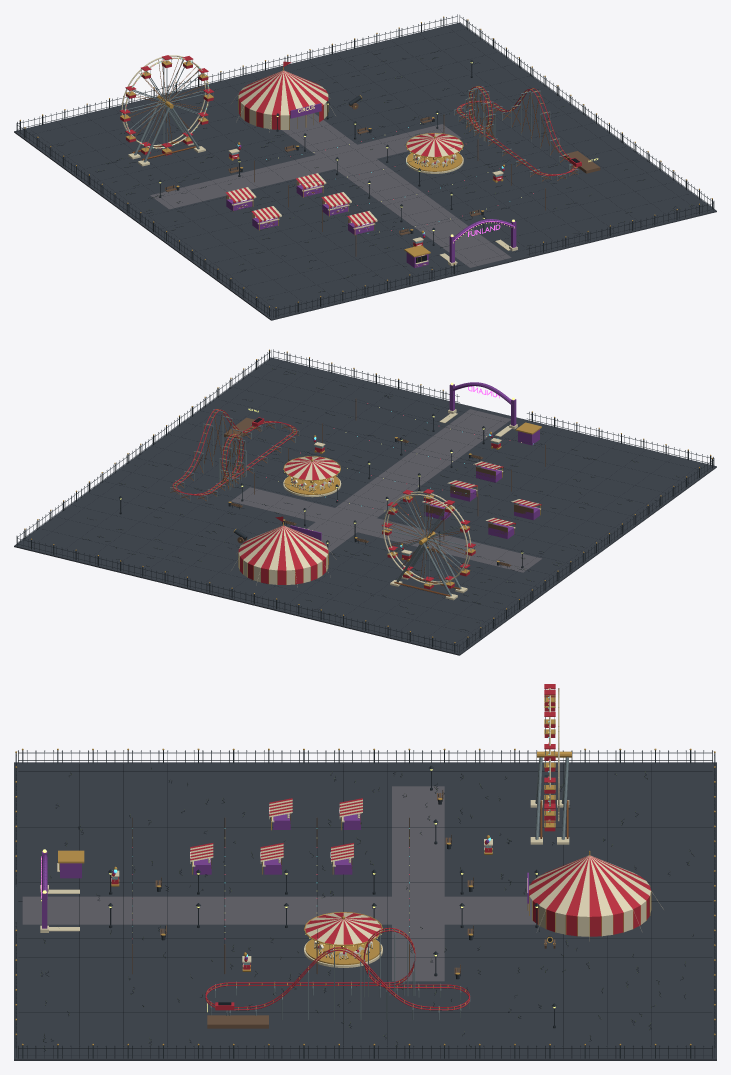
Rendered from funland.glb.
The picture shows the model from 3 angles, top to bottom: view 1: azimuth 30°, elevation 25°; view 2: azimuth 150°, elevation 25°; view 3: azimuth 270°, elevation 25°; orthographic projection. The views are drawn at different scales.
Visible parts, largest first — view 1: Ground__asphalt, Ground__path, Perimeter_Fence__iron, Circus_28m__cream, Circus_28m__red, Ground__black, Ferris_33m_12Gondolas__steel, Coaster_60m__steel, Coaster_60m__red, Coaster_60m__rust, Ferris_33m_12Gondolas__rust, Ferris_33m_12Gondolas__cream (+7 smaller); view 2: Ground__asphalt, Ground__path, Perimeter_Fence__iron, Circus_28m__cream, Circus_28m__red, Ground__black, Ferris_33m_12Gondolas__steel, Coaster_60m__steel, Ferris_33m_12Gondolas__cream, Coaster_60m__red, Ferris_33m_12Gondolas__rust, Coaster_60m__rust (+6 smaller); view 3: Ground__asphalt, Ground__path, Perimeter_Fence__iron, Ground__black, Circus_28m__red, Circus_28m__cream, Coaster_60m__red, Carousel_18m_12Horses__cream, Coaster_60m__steel, Carousel_18m_12Horses__gold, Carousel_18m_12Horses__red, Ferris_33m_12Gondolas__red (+5 smaller).
Part boxes in pixels (box(x1,y1,x2,y2)): Ground__asphalt: box(14, 22, 716, 320); Ground__path: box(150, 113, 511, 267); Perimeter_Fence__iron: box(16, 14, 714, 317); Circus_28m__cream: box(231, 70, 335, 131); Circus_28m__red: box(239, 61, 328, 129); Ground__black: box(32, 29, 698, 310); Ferris_33m_12Gondolas__steel: box(124, 58, 213, 162); Coaster_60m__steel: box(454, 86, 578, 181); Coaster_60m__red: box(456, 86, 581, 175); Coaster_60m__rust: box(455, 88, 579, 181); Ferris_33m_12Gondolas__rust: box(127, 59, 207, 160); Ferris_33m_12Gondolas__cream: box(121, 55, 209, 166); Ground__asphalt: box(14, 357, 716, 655); Ground__path: box(231, 409, 541, 572); Perimeter_Fence__iron: box(16, 349, 714, 652); Circus_28m__cream: box(233, 525, 335, 587); Circus_28m__red: box(238, 516, 328, 584); Ground__black: box(32, 364, 698, 645); Ferris_33m_12Gondolas__steel: box(382, 492, 474, 596); Coaster_60m__steel: box(170, 409, 299, 501); Ferris_33m_12Gondolas__cream: box(383, 491, 471, 600); Coaster_60m__red: box(172, 409, 297, 495); Ferris_33m_12Gondolas__rust: box(385, 493, 465, 596); Coaster_60m__rust: box(170, 412, 298, 500); Ground__asphalt: box(14, 762, 716, 1060); Ground__path: box(22, 786, 536, 981); Perimeter_Fence__iron: box(15, 750, 715, 1058); Ground__black: box(18, 764, 712, 1052); Circus_28m__red: box(529, 855, 650, 936); Circus_28m__cream: box(529, 855, 663, 941); Coaster_60m__red: box(205, 927, 470, 1010); Carousel_18m_12Horses__cream: box(304, 912, 382, 967); Coaster_60m__steel: box(205, 927, 470, 1019); Carousel_18m_12Horses__gold: box(304, 912, 382, 964); Carousel_18m_12Horses__red: box(305, 912, 381, 954); Ferris_33m_12Gondolas__red: box(544, 684, 555, 831).
Bounding box in the file's own units: 160 × 33.4 × 160.
